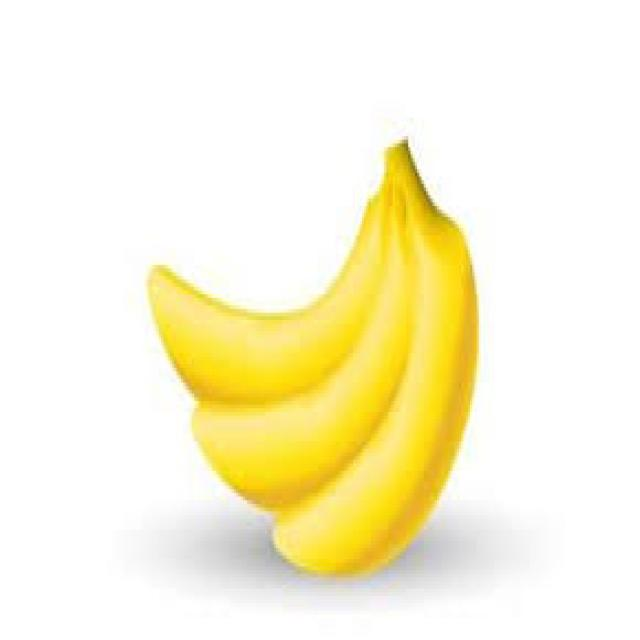banana: (146, 132, 479, 578)
